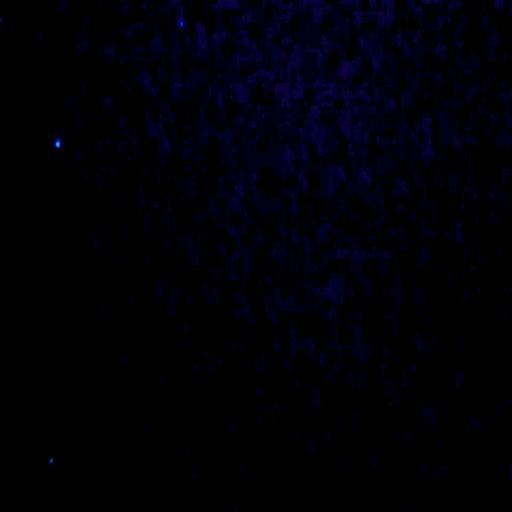object-detection-project: (55, 139, 61, 148)
